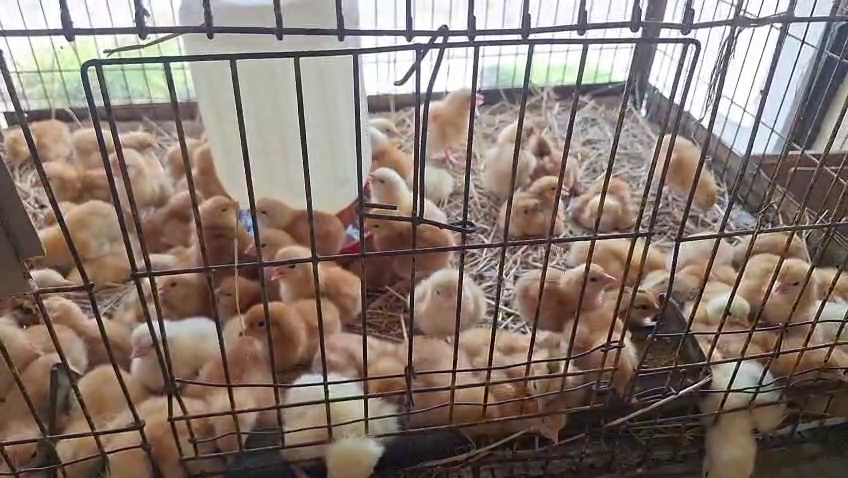Pollo: (278, 367, 413, 478), (178, 337, 276, 462), (683, 356, 782, 478), (40, 362, 142, 477), (517, 248, 624, 335), (402, 331, 486, 441), (232, 290, 337, 377), (20, 279, 135, 356), (275, 244, 374, 331), (489, 314, 588, 401), (106, 391, 205, 478), (310, 316, 409, 403), (123, 309, 221, 396), (548, 319, 646, 406), (646, 130, 735, 219), (408, 256, 496, 335), (361, 208, 450, 286), (499, 328, 583, 408), (753, 246, 830, 333), (418, 74, 494, 161), (99, 130, 178, 213), (475, 104, 550, 191), (0, 345, 51, 471), (27, 191, 120, 260), (480, 391, 578, 451), (371, 127, 461, 192), (497, 171, 576, 244), (35, 121, 109, 198), (183, 188, 257, 261), (572, 231, 675, 283), (692, 278, 772, 338), (668, 225, 751, 282), (567, 172, 641, 232), (146, 176, 206, 245), (608, 281, 681, 337), (365, 170, 454, 215), (137, 261, 208, 316), (251, 193, 353, 229), (215, 258, 270, 321), (245, 221, 300, 284), (536, 127, 591, 179), (0, 115, 55, 161), (370, 93, 420, 141), (126, 248, 189, 280)
